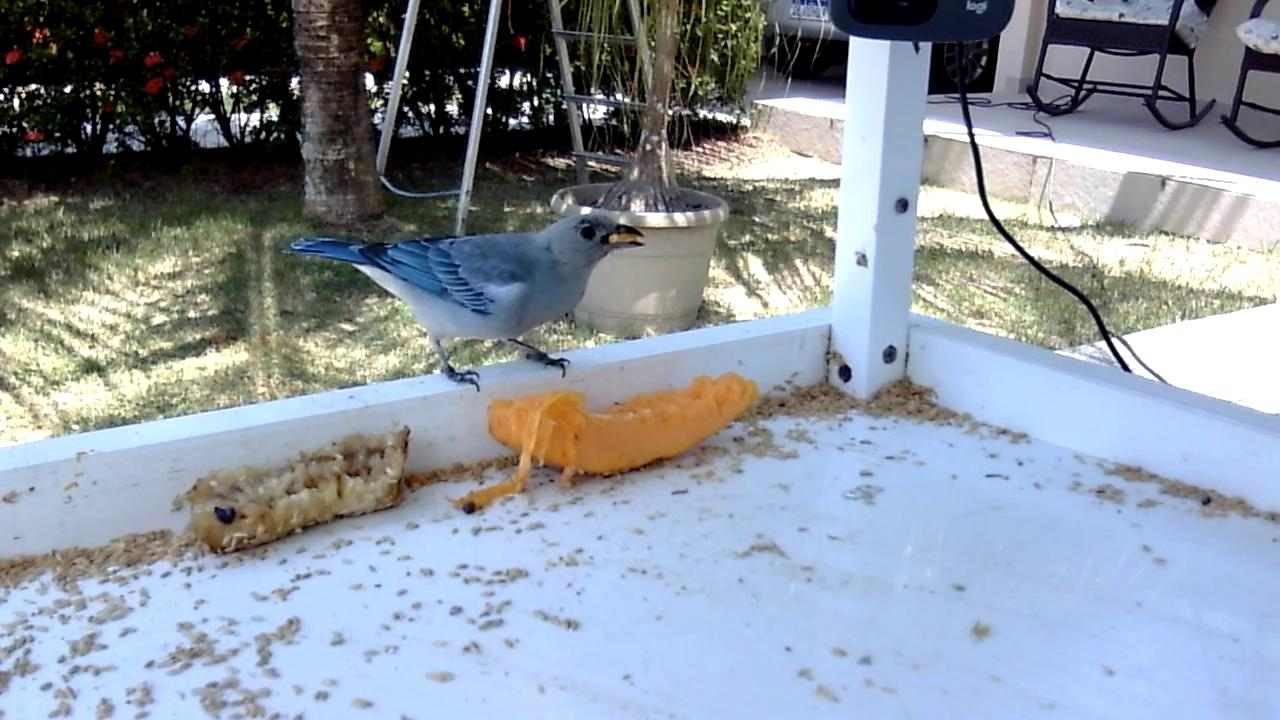sanhaco_da_amazonia: (281, 213, 649, 395)
